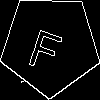F: (25, 20, 68, 73)
